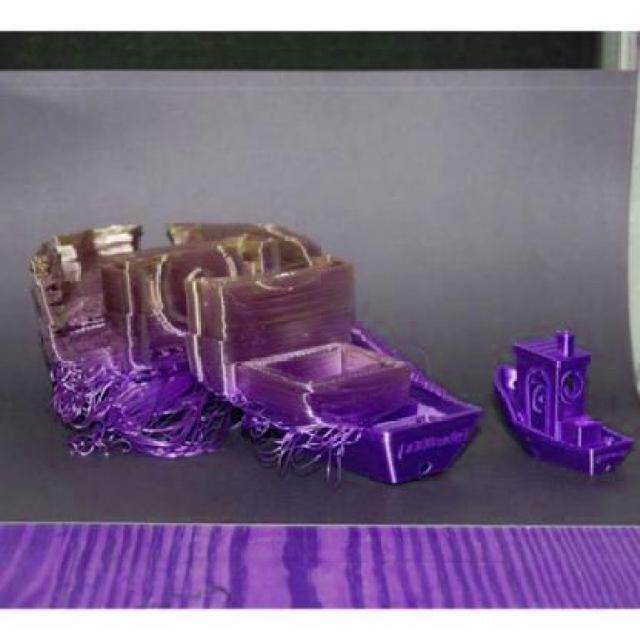spaghetti: (50, 367, 232, 461), (241, 408, 361, 486)
